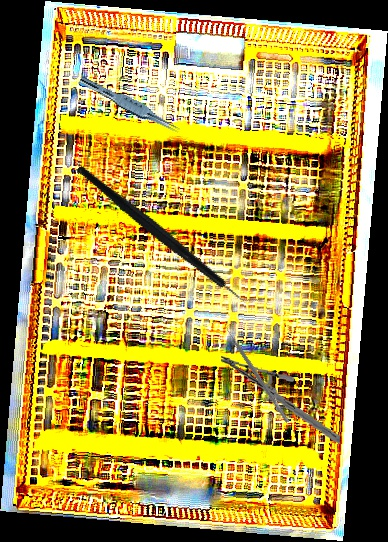Chopper: (76, 122, 262, 348)
Needle Holder: (213, 353, 348, 445)
Spatula Surgical: (222, 323, 294, 424)
Tissue Forceps: (76, 75, 183, 136)
